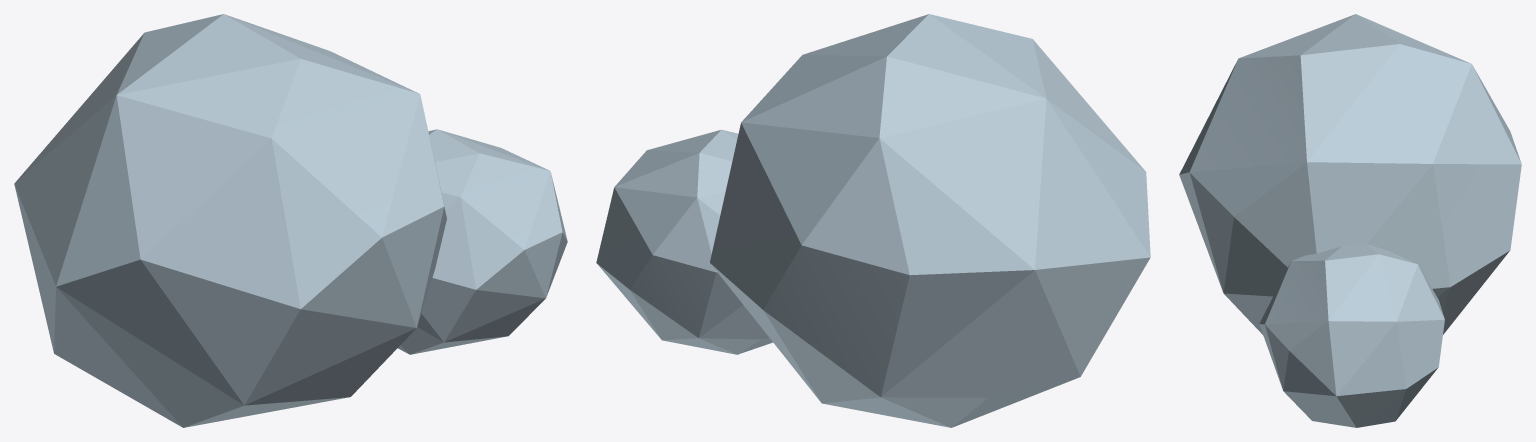
Rendered from small_cloud_1.fbx.
3 views of the same model, side by side, from view 1: azimuth 30°, elevation 25°; view 2: azimuth 150°, elevation 25°; view 3: azimuth 270°, elevation 25° (orthographic). The views are drawn at different scales.
Parts seen in each view (by area): view 1: cloud_1; view 2: cloud_1; view 3: cloud_1.
Boxes of the visible parts, left/top/right/bottom form: cloud_1: left=14, top=14, right=567, bottom=427; cloud_1: left=596, top=14, right=1150, bottom=427; cloud_1: left=1179, top=14, right=1521, bottom=427.
Bounding box in the file's own units: 296 × 200 × 202.
